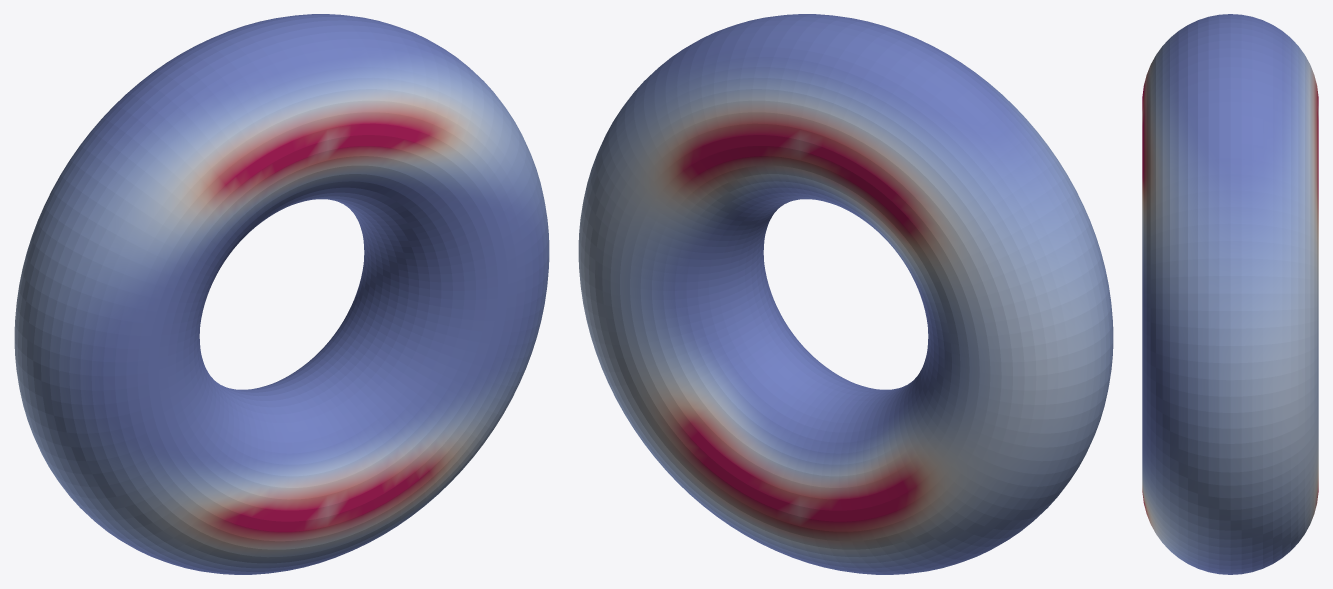
3 views of the same model, side by side, from view 1: azimuth 30°, elevation 25°; view 2: azimuth 150°, elevation 25°; view 3: azimuth 270°, elevation 25° (orthographic). The views are drawn at different scales.
Parts seen in each view (by area): view 1: world; view 2: world; view 3: world.
Boxes of the visible parts, <box> form: world: <box>14,14,549,574</box>; world: <box>578,14,1113,574</box>; world: <box>1142,14,1318,574</box>.
Size of the model in its own units: 16.53 by 16.53 by 5.19.
